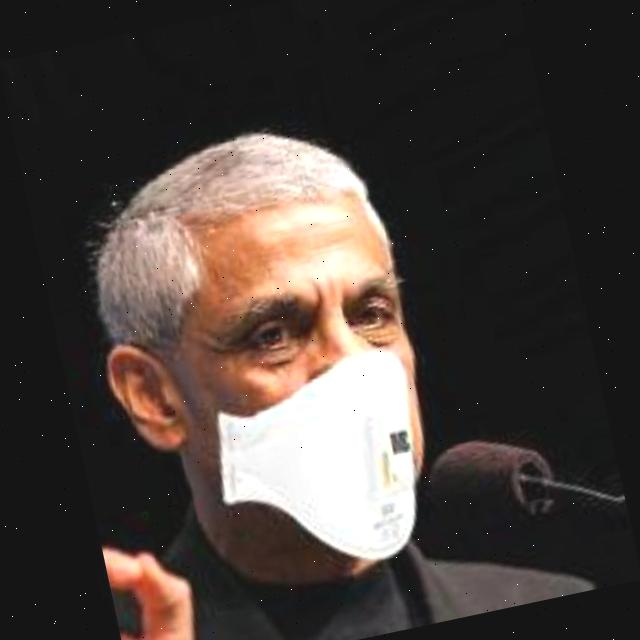suspicion: (23, 32, 519, 600)
